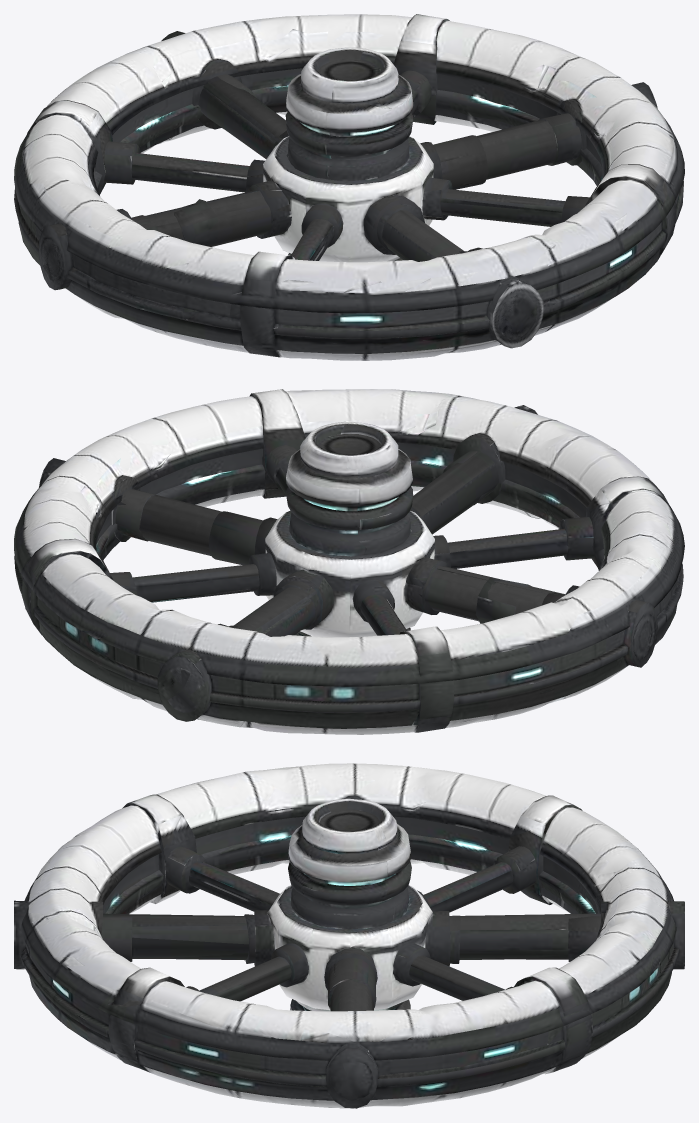
The model's file is orbital-station.glb.
3 renders of one model, top to bottom at view 1: azimuth 30°, elevation 25°; view 2: azimuth 150°, elevation 25°; view 3: azimuth 270°, elevation 25°, orthographic. The views are drawn at different scales.
Bounding box in the file's own units: 1.99 × 0.8206 × 1.99.
1 material, 1 textured.
